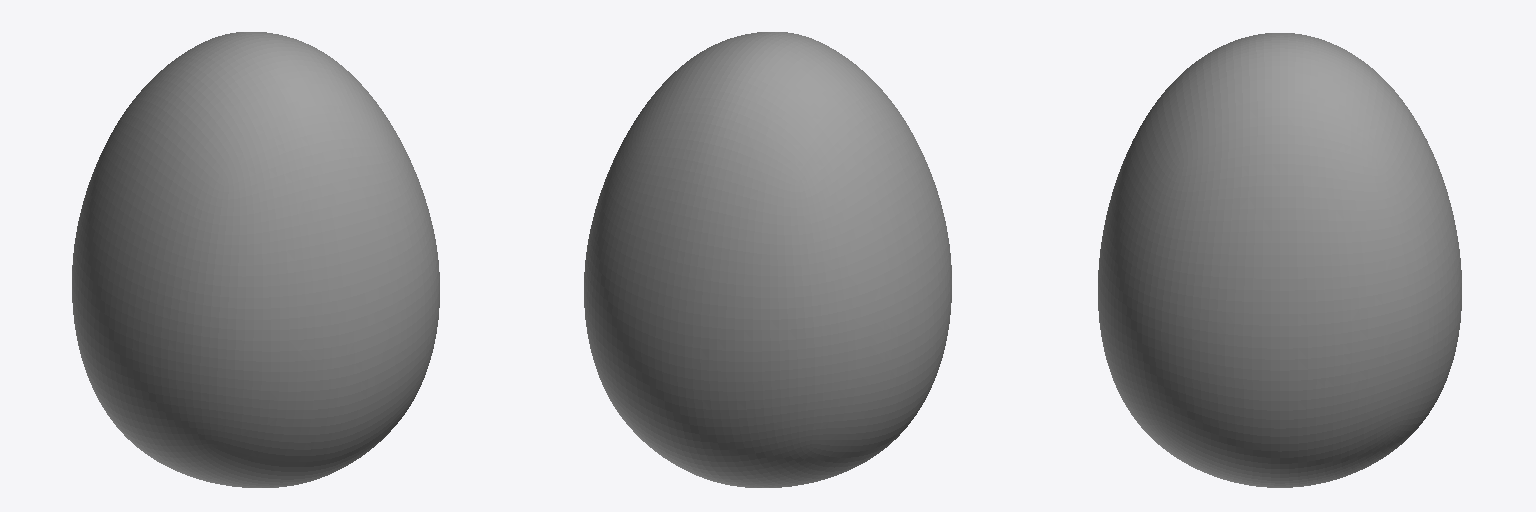
Rendered from egg.obj.
3 views of the same model, side by side, from view 1: azimuth 30°, elevation 25°; view 2: azimuth 150°, elevation 25°; view 3: azimuth 270°, elevation 25° (orthographic).
Visible parts, largest first — view 1: Cube_Cube.001; view 2: Cube_Cube.001; view 3: Cube_Cube.001.
Boxes of the visible parts, <box> form: Cube_Cube.001: <box>72,32,439,487</box>; Cube_Cube.001: <box>584,32,951,487</box>; Cube_Cube.001: <box>1098,33,1461,487</box>.
Bounding box in the file's own units: 0.7049 × 0.9147 × 0.7078.